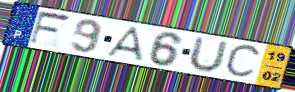6: (148, 31, 183, 68)
9: (70, 18, 105, 54)
A: (103, 25, 145, 63)
C: (222, 43, 264, 80)
F: (27, 9, 74, 47)
U: (185, 35, 230, 74)
